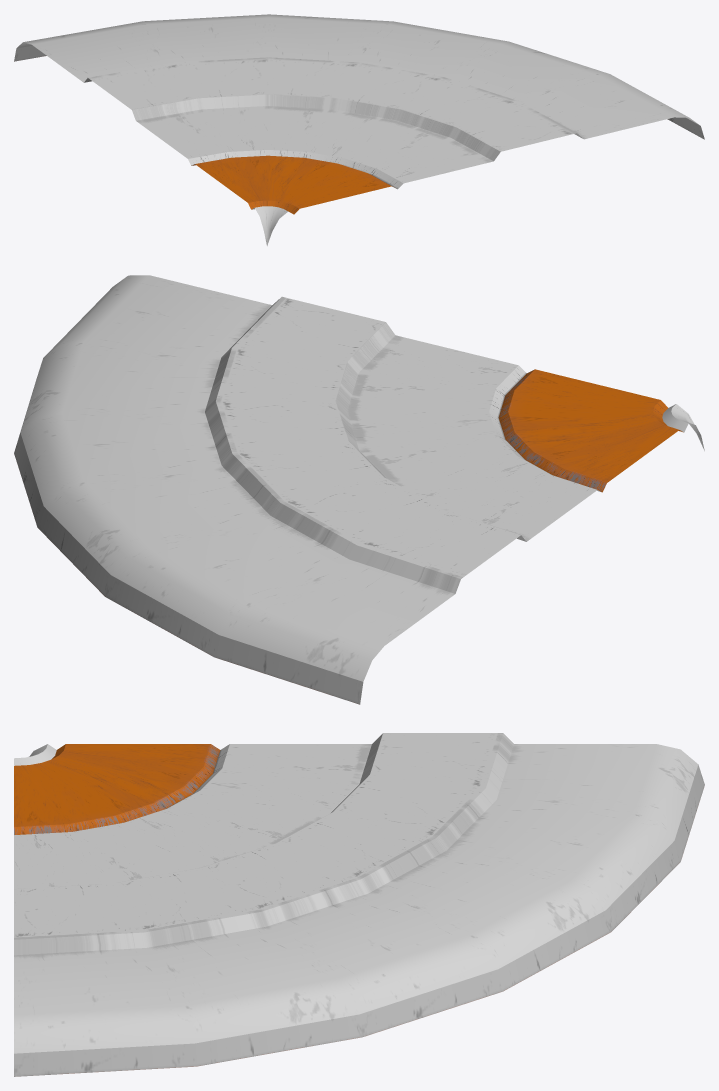
File: Floor_SideCorner.fbx
The picture shows the model from 3 angles, top to bottom: view 1: azimuth 30°, elevation 25°; view 2: azimuth 150°, elevation 25°; view 3: azimuth 270°, elevation 25°; orthographic projection. The views are drawn at different scales.
Visible parts, largest first — view 1: Floor_SideCorner; view 2: Floor_SideCorner; view 3: Floor_SideCorner.
Boxes of the visible parts, x1,y1,x2,y2 form: Floor_SideCorner: (14, 14, 704, 245); Floor_SideCorner: (14, 275, 704, 704); Floor_SideCorner: (14, 733, 704, 1076).
Bounding box in the file's own units: 1.59 × 0.1315 × 1.59.
